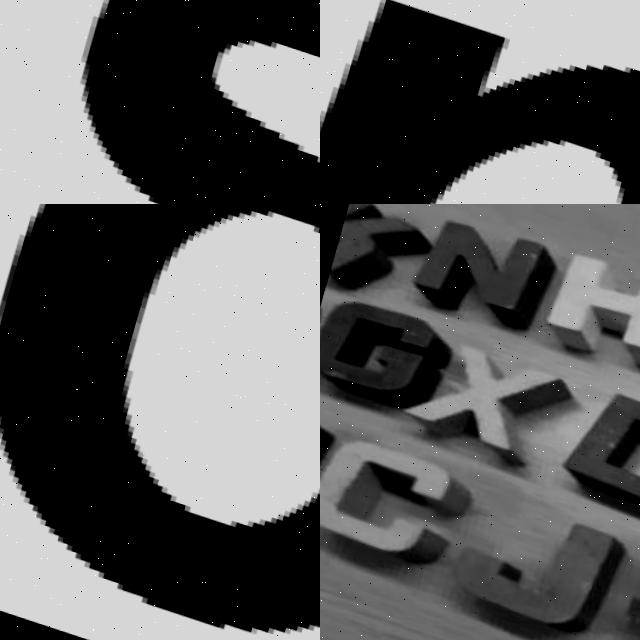C: (320, 424, 479, 582)
D: (563, 369, 640, 523)
G: (320, 283, 464, 426)
H: (529, 228, 640, 377)
J: (457, 483, 627, 640)
K: (325, 204, 436, 313)
N: (320, 0, 640, 204), (405, 207, 557, 331)
O: (0, 204, 320, 626)
S: (0, 0, 320, 204)
X: (411, 325, 574, 466)
